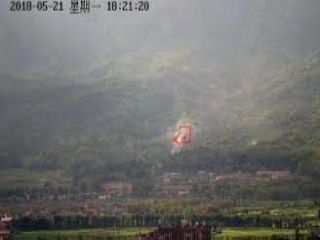smoke: (169, 110, 199, 159)
